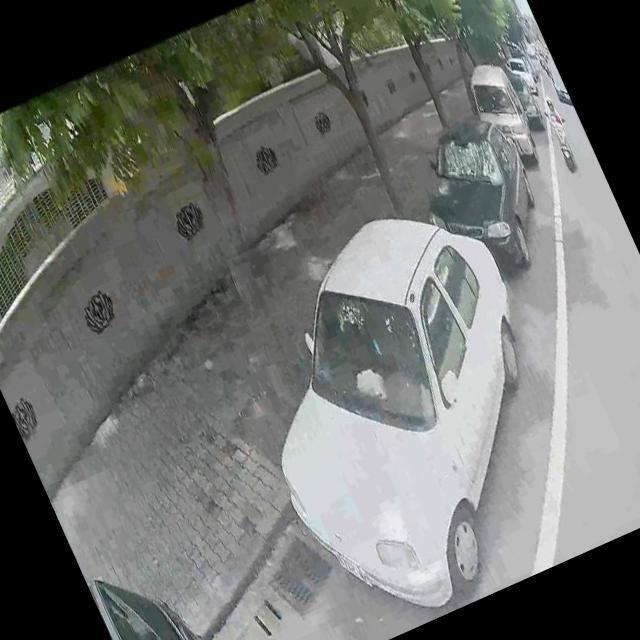person: (541, 96, 566, 132)
